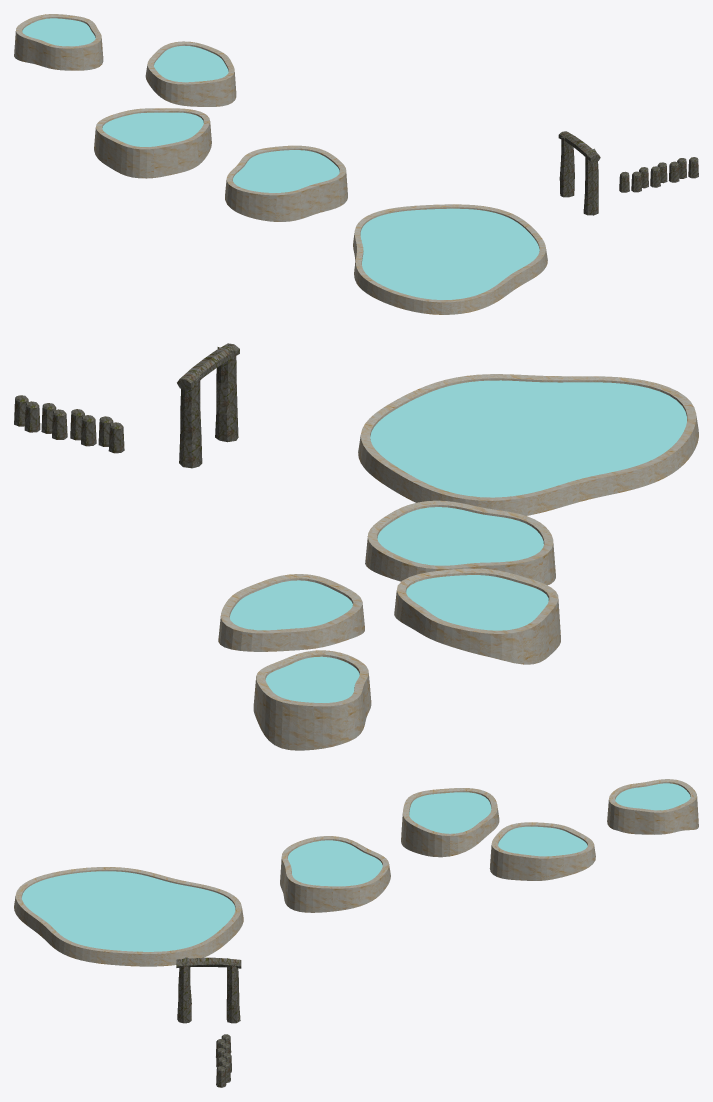
File: springs_v3.glb
3 views of the same model, one above another, from view 1: azimuth 30°, elevation 25°; view 2: azimuth 150°, elevation 25°; view 3: azimuth 270°, elevation 25° (orthographic). The views are drawn at different scales.
Visible parts, largest first — view 1: LagoonWater, Pool1Water, Pool2Water, Pool3Water, Pool4Water, Pool2Rim08, GatePillarR, Pool1Rim09, GatePillarL, Pool2Rim09, Pool1Rim10, Pool3Rim09 (+13 smaller); view 2: LagoonWater, Pool1Water, Pool2Water, Pool3Water, Pool4Water, GatePillarR, GatePillarL, Pool4Rim04, Pool4Rim05, Pool2Rim05, Pool2Rim06, Pool4Rim03 (+17 smaller); view 3: LagoonWater, Pool1Water, Pool2Water, Pool3Water, Pool4Water, GatePillarR, GatePillarL, Pool1Rim14, Pool2Rim12, Pool1Rim01, Pool3Rim11, Pool1Rim13 (+11 smaller).
Boxes of the visible parts, x1,y1,x2,y2 form: LagoonWater: (360,208,539,299); Pool1Water: (233,150,339,192); Pool2Water: (102,112,203,146); Pool3Water: (154,45,228,82); Pool4Water: (22,18,95,46); Pool2Rim08: (126,145,153,178); GatePillarR: (583,148,598,215); Pool1Rim09: (248,191,277,221); GatePillarL: (559,135,574,197); Pool2Rim09: (154,143,178,177); Pool1Rim10: (276,189,301,221); Pool3Rim09: (190,80,215,106); LagoonWater: (370,380,686,497); Pool1Water: (377,507,543,565); Pool2Water: (406,575,548,630); Pool3Water: (230,580,352,630); Pool4Water: (265,656,359,702); GatePillarR: (215,344,238,442); GatePillarL: (179,370,202,468); Pool4Rim04: (281,699,314,750); Pool4Rim05: (314,700,348,749); Pool2Rim05: (480,628,523,664); Pool2Rim06: (518,614,549,664); Pool4Rim03: (261,690,286,747); LagoonWater: (22,871,235,951); Pool1Water: (288,840,382,886); Pool2Water: (409,792,491,833); Pool3Water: (498,826,587,856); Pool4Water: (615,783,690,810); GatePillarR: (177,957,191,1023); GatePillarL: (226,958,240,1023); Pool1Rim14: (306,884,332,912); Pool2Rim12: (422,828,449,857); Pool1Rim01: (333,885,360,911); Pool3Rim11: (497,850,522,880); Pool1Rim13: (287,877,308,912).
Bounding box in the file's own units: 151 × 26.31 × 188.
3 materials, 2 textured.
